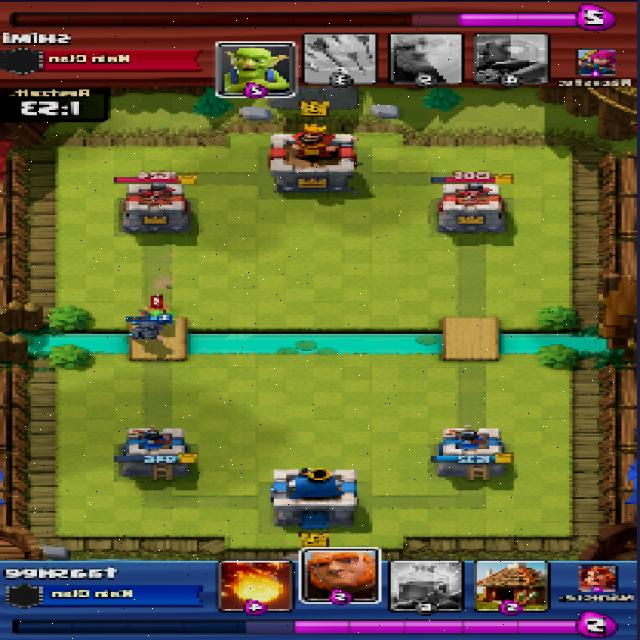Enemy-MiniPEKKA: (127, 318, 170, 340)
Enemy-SpearGoblin: (139, 307, 174, 323)
